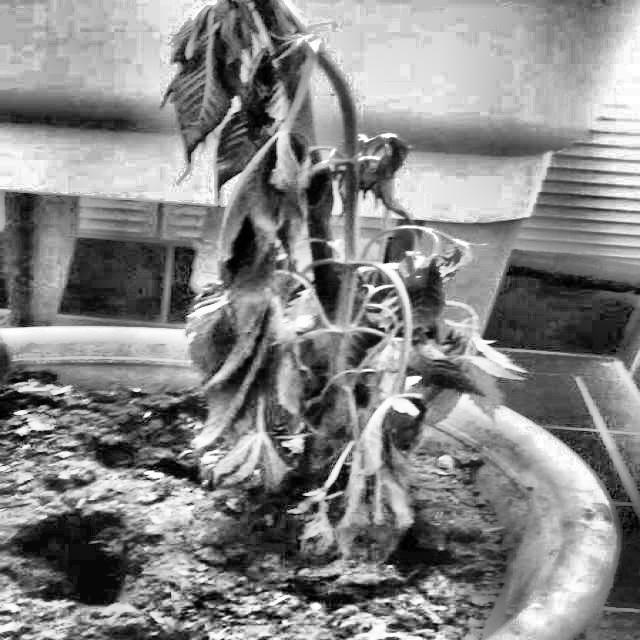plants: (131, 0, 582, 639)
